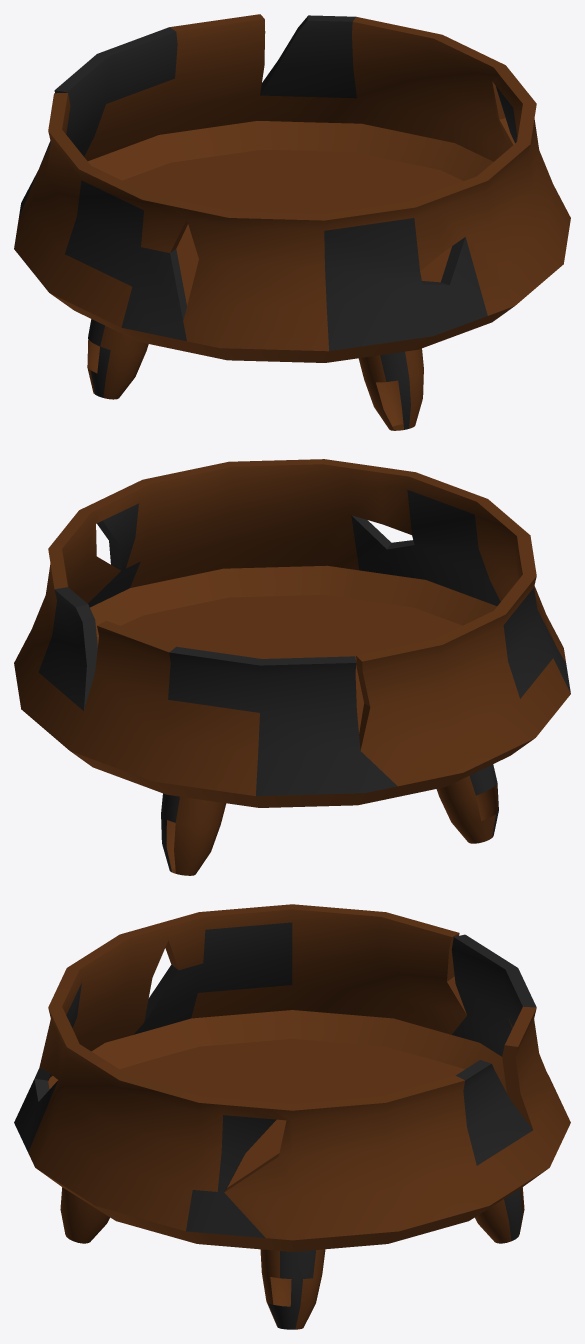
Rendered from comlek_2_kirik.fbx.
3 views of the same model, one above another, from view 1: azimuth 30°, elevation 25°; view 2: azimuth 150°, elevation 25°; view 3: azimuth 270°, elevation 25° (orthographic).
Parts seen in each view (by area): view 1: comlek_2_kirik; view 2: comlek_2_kirik; view 3: comlek_2_kirik.
Boxes of the visible parts, left/top/right/bottom form: comlek_2_kirik: left=14, top=14, right=570, bottom=430; comlek_2_kirik: left=14, top=459, right=570, bottom=875; comlek_2_kirik: left=14, top=904, right=570, bottom=1329.
Bounding box in the file's own units: 0.4748 × 0.2191 × 0.4748.
